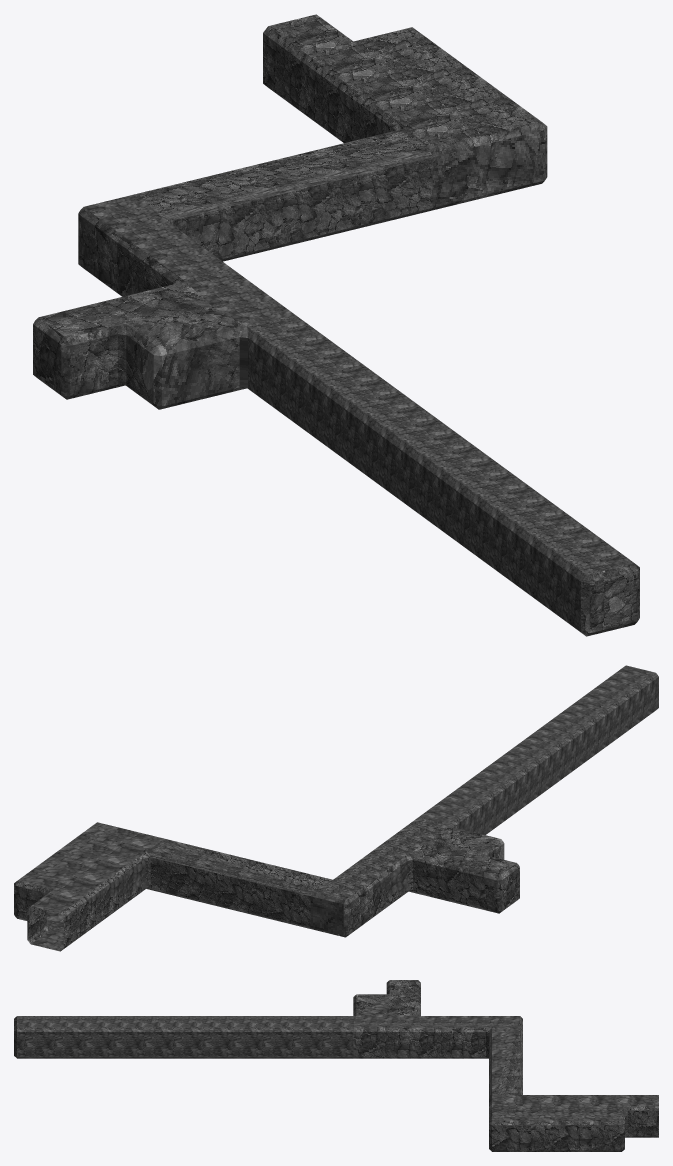
The model's file is location1.glb.
3 views of the same model, one above another, from view 1: azimuth 30°, elevation 25°; view 2: azimuth 150°, elevation 25°; view 3: azimuth 270°, elevation 25° (orthographic). The views are drawn at different scales.
Parts seen in each view (by area): view 1: Cube; view 2: Cube; view 3: Cube.
Part boxes in pixels (<box>): Cube: <box>33,14,639,636</box>; Cube: <box>14,665,658,951</box>; Cube: <box>14,980,658,1151</box>.
Bounding box in the file's own units: 20 × 2 × 37.97.
1 material, 1 textured.
